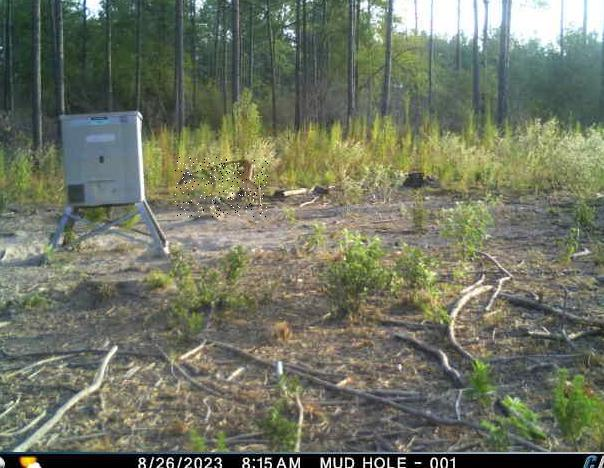Deer: (175, 157, 268, 217)
